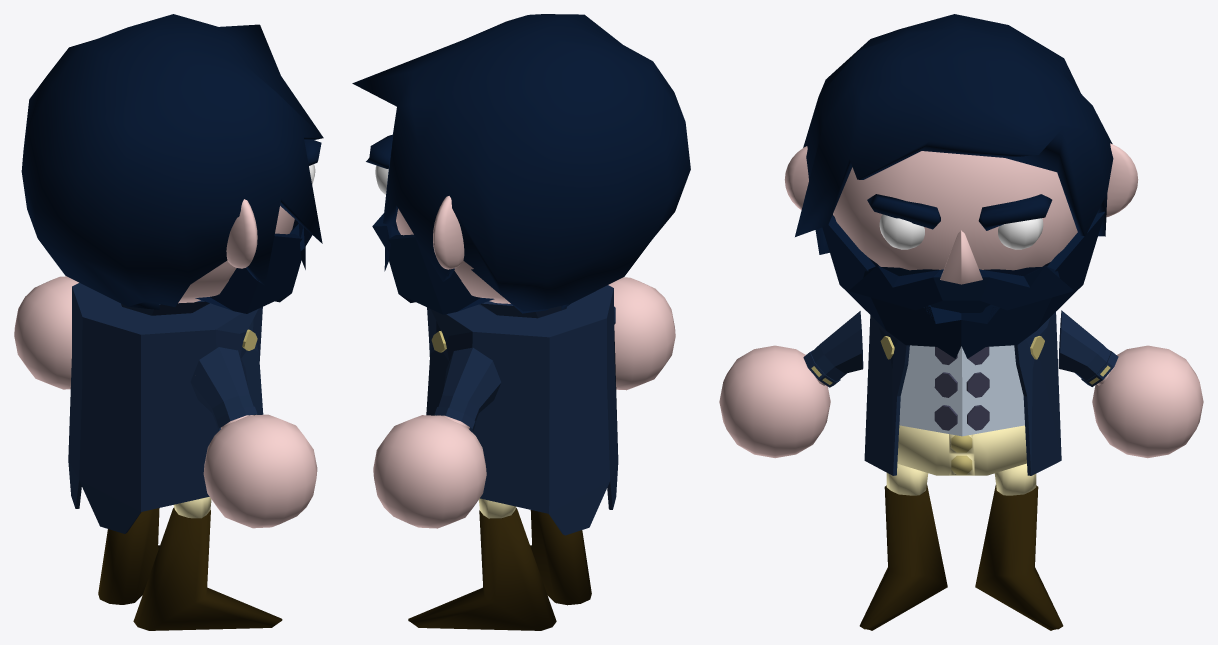
File: BluebeardModel.glb
3 views of the same model, side by side, from view 1: azimuth 30°, elevation 25°; view 2: azimuth 150°, elevation 25°; view 3: azimuth 270°, elevation 25° (orthographic).
Parts seen in each view (by area): view 1: Hair.003, Body.002, right_arm-col, right_leg-col.002, left_arm-col.002, left_leg-col, Beard, head-col.002; view 2: Hair.003, Body.002, left_arm-col.002, left_leg-col, right_arm-col, Beard, right_leg-col.002, head-col.002, Eyebrows.002; view 3: Hair.003, Body.002, head-col.002, Beard, left_arm-col.002, right_arm-col, left_leg-col, right_leg-col.002, Eyebrows.002, Eyes.002.
Boxes of the visible parts, left/top/right/bottom form: Hair.003: left=21, top=14, right=323, bottom=309; Body.002: left=68, top=283, right=263, bottom=533; right_arm-col: left=190, top=347, right=317, bottom=528; right_leg-col.002: left=133, top=497, right=282, bottom=630; left_arm-col.002: left=14, top=276, right=78, bottom=389; left_leg-col: left=98, top=508, right=159, bottom=604; Beard: left=195, top=219, right=312, bottom=313; head-col.002: left=178, top=199, right=294, bottom=303; Hair.003: left=352, top=14, right=690, bottom=313; Body.002: left=426, top=285, right=618, bottom=535; left_arm-col.002: left=373, top=347, right=501, bottom=528; left_leg-col: left=408, top=498, right=556, bottom=630; right_arm-col: left=608, top=277, right=675, bottom=390; Beard: left=372, top=213, right=494, bottom=314; right_leg-col.002: left=530, top=510, right=591, bottom=605; head-col.002: left=396, top=196, right=510, bottom=303; Eyebrows.002: left=366, top=134, right=392, bottom=168; Hair.003: left=795, top=14, right=1113, bottom=254; Body.002: left=864, top=312, right=1061, bottom=475; head-col.002: left=784, top=143, right=1138, bottom=284; Beard: left=822, top=211, right=1105, bottom=358; left_arm-col.002: left=1058, top=310, right=1203, bottom=458; right_arm-col: left=719, top=311, right=863, bottom=458; left_leg-col: left=975, top=463, right=1063, bottom=630; right_leg-col.002: left=859, top=464, right=947, bottom=630; Eyebrows.002: left=867, top=194, right=1052, bottom=230; Eyes.002: left=879, top=214, right=1043, bottom=249.
Size of the model in its own units: 1.14 by 2.29 by 1.77.
